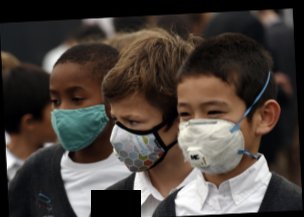with_mask: (175, 97, 254, 175), (109, 108, 170, 173), (49, 84, 108, 151)
